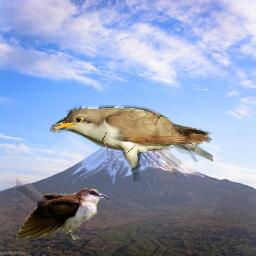Cuckoo: (50, 105, 213, 182), (16, 152, 109, 243)
